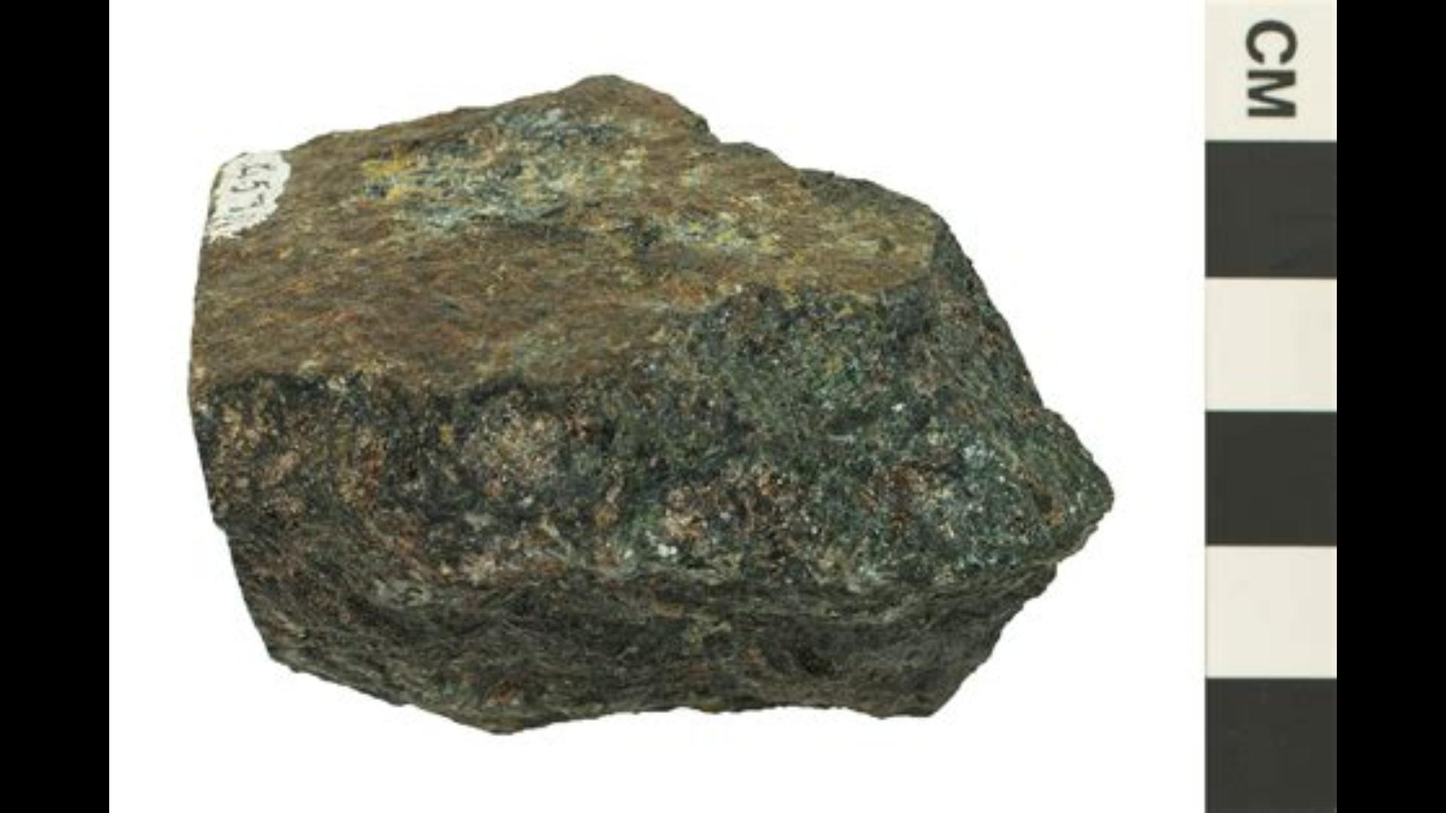rock: (192, 78, 1109, 730)
